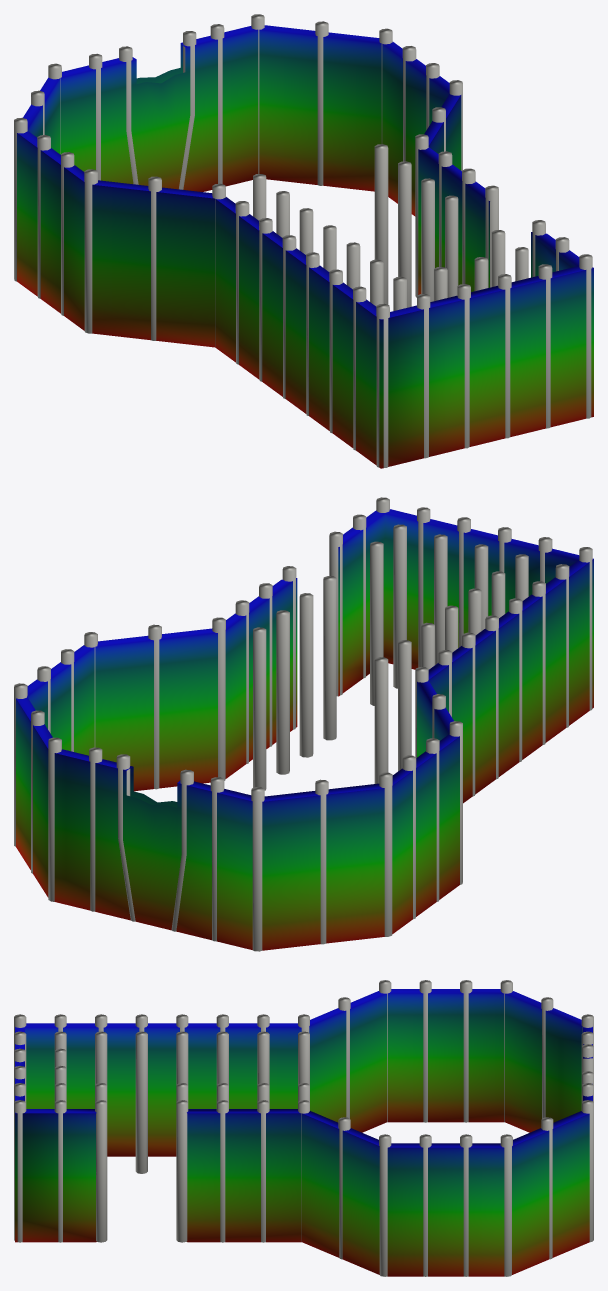
File: cathedral body revise.fbx
3 views of the same model, one above another, from view 1: azimuth 30°, elevation 25°; view 2: azimuth 150°, elevation 25°; view 3: azimuth 270°, elevation 25° (orthographic). The views are drawn at different scales.
Parts seen in each view (by area): view 1: cathedral_body; view 2: cathedral_body; view 3: cathedral_body.
Boxes of the visible parts, left/top/right/bottom form: cathedral_body: left=14, top=14, right=593, bottom=468; cathedral_body: left=14, top=497, right=593, bottom=951; cathedral_body: left=14, top=980, right=593, bottom=1276.
Bounding box in the file's own units: 9.3 × 3.74 × 14.3.
